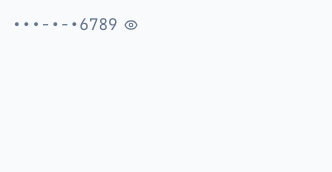
MaskedText › Toggle Reveal Behavior › hides value again on second click
Click the button at (75, 25), box x1=12 y1=13 x2=138 y2=37
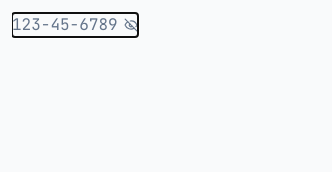
Now the text "123-45-6789" is shown, box x1=12 y1=13 x2=118 y2=37
Click the button "123-45-6789" at (75, 25), box x1=12 y1=13 x2=138 y2=37
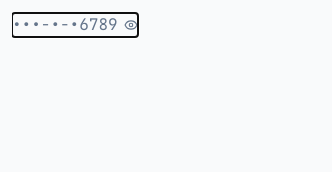
Now the text "•••-•-•6789" is shown, box x1=12 y1=13 x2=118 y2=37
